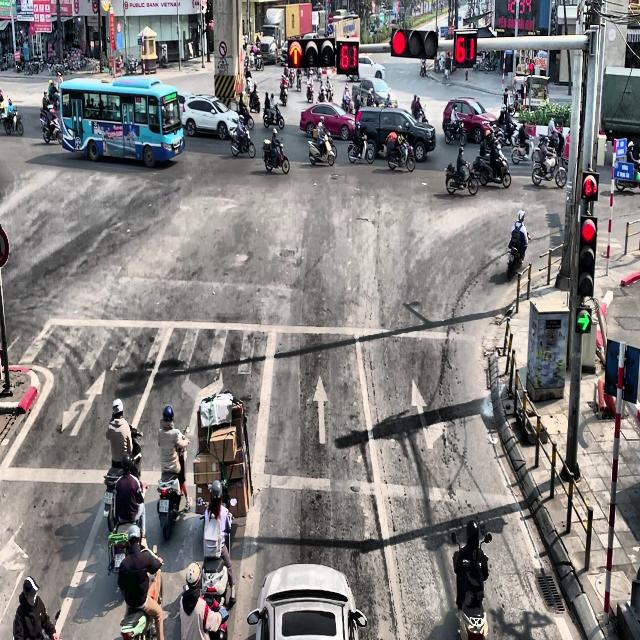BUS: (59, 76, 185, 168)
CAR: (247, 562, 367, 640), (181, 94, 240, 140), (299, 102, 356, 140)
MOTORBIKE: (451, 531, 492, 639), (120, 544, 164, 639), (103, 425, 143, 527), (156, 426, 190, 540), (532, 147, 567, 188), (444, 160, 478, 196), (477, 153, 511, 188), (507, 234, 531, 279), (261, 137, 290, 174), (386, 137, 416, 172), (308, 131, 337, 166), (347, 132, 375, 164), (230, 125, 256, 158), (40, 106, 62, 144), (443, 117, 467, 146), (511, 135, 535, 164), (3, 106, 23, 136), (263, 103, 284, 129), (239, 106, 254, 130), (414, 104, 428, 124), (279, 82, 288, 105), (324, 84, 334, 102), (306, 81, 314, 103), (296, 73, 302, 91), (420, 62, 427, 77)
TRAFFIC_LIGHT: (577, 215, 597, 298), (389, 26, 438, 58), (453, 29, 478, 66), (336, 40, 359, 76), (581, 170, 599, 200)
